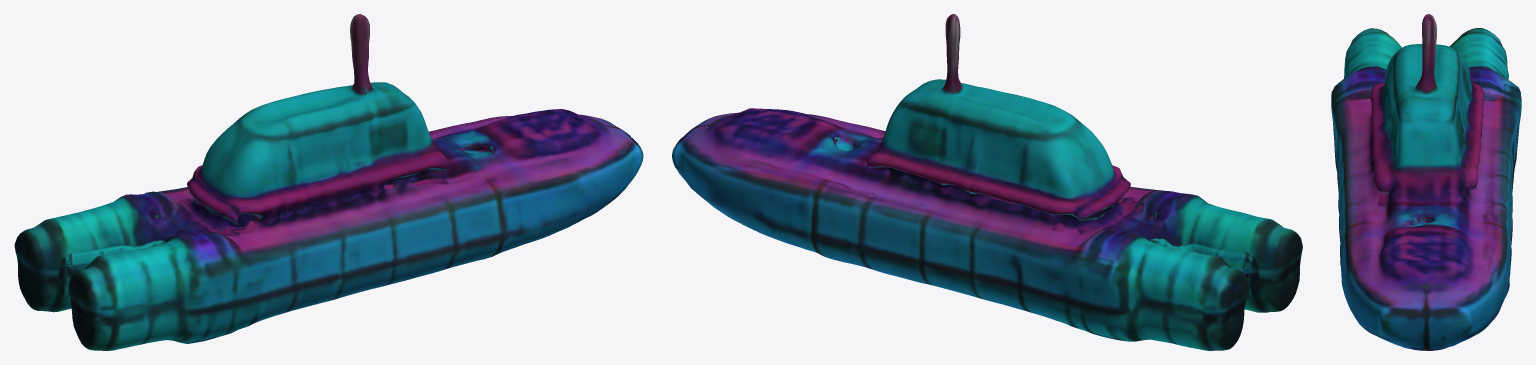
File: 08886d0a2ab6_bea34dec37c6_submarine_pirate_sh.glb
The picture shows the model from 3 angles, left to right: view 1: azimuth 30°, elevation 25°; view 2: azimuth 150°, elevation 25°; view 3: azimuth 270°, elevation 25°; orthographic projection. The views are drawn at different scales.
Parts seen in each view (by area): view 1: mesh; view 2: mesh; view 3: mesh.
Part boxes in pixels (x1,y1,x2,y2): mesh: (14, 14, 643, 350); mesh: (672, 14, 1302, 350); mesh: (1331, 14, 1521, 350).
Size of the model in its own units: 0.9994 by 0.427 by 0.2953.
Materials: 1 (1 with a texture image).
